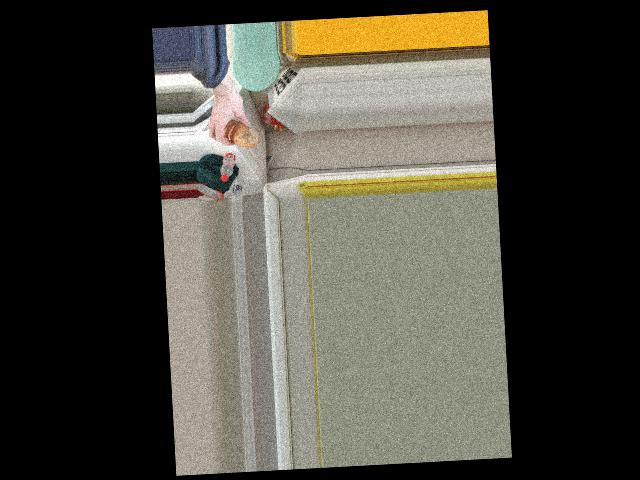sweet_potato: (222, 118, 254, 150)
